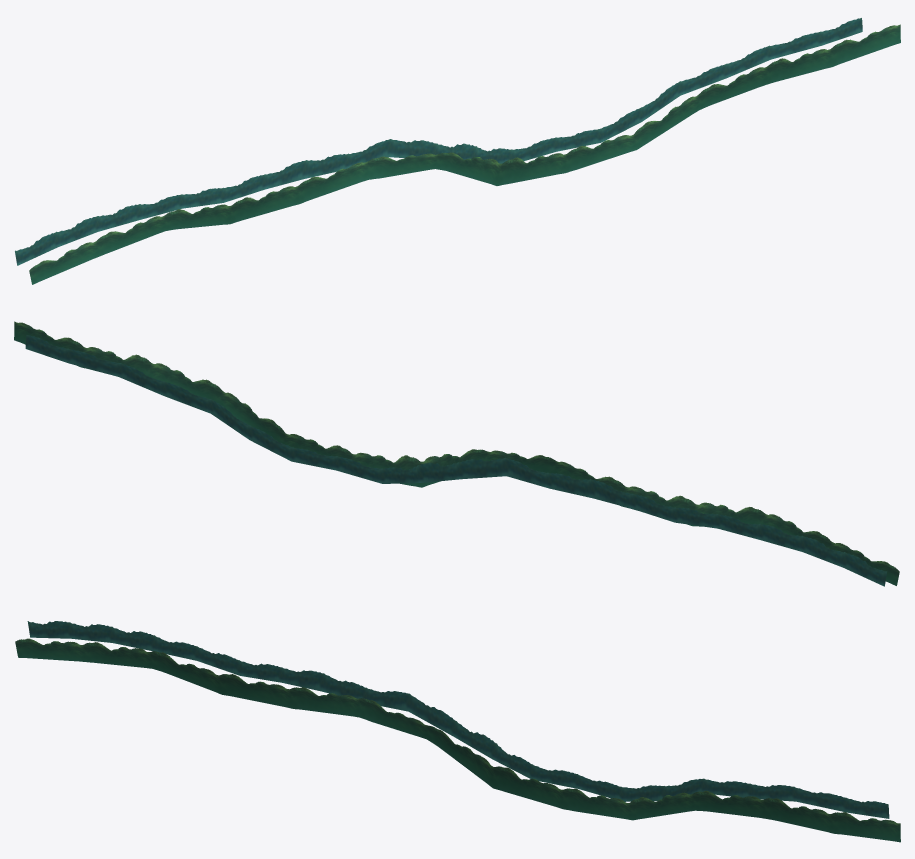
Rendered from LVL10 Horizon.FBX.
3 renders of one model, top to bottom at view 1: azimuth 30°, elevation 25°; view 2: azimuth 150°, elevation 25°; view 3: azimuth 330°, elevation 25°, orthographic.
Visible parts, largest first — view 1: LVL10 Horizon; view 2: LVL10 Horizon; view 3: LVL10 Horizon.
Boxes of the visible parts, x1,y1,x2,y2 form: LVL10 Horizon: [15, 18, 900, 284]; LVL10 Horizon: [14, 321, 899, 586]; LVL10 Horizon: [15, 621, 900, 842].
Size of the model in its own units: 44909 by 1352 by 3808.
